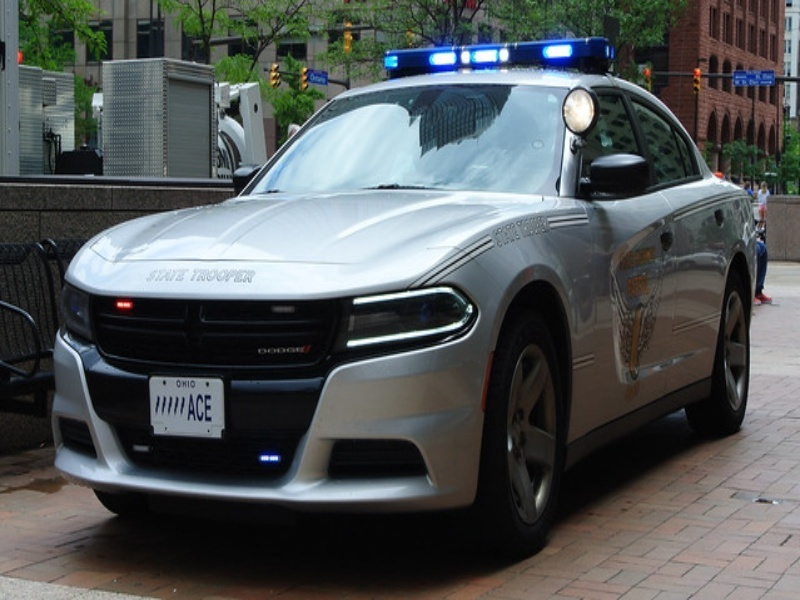policecar: (32, 23, 761, 531)
